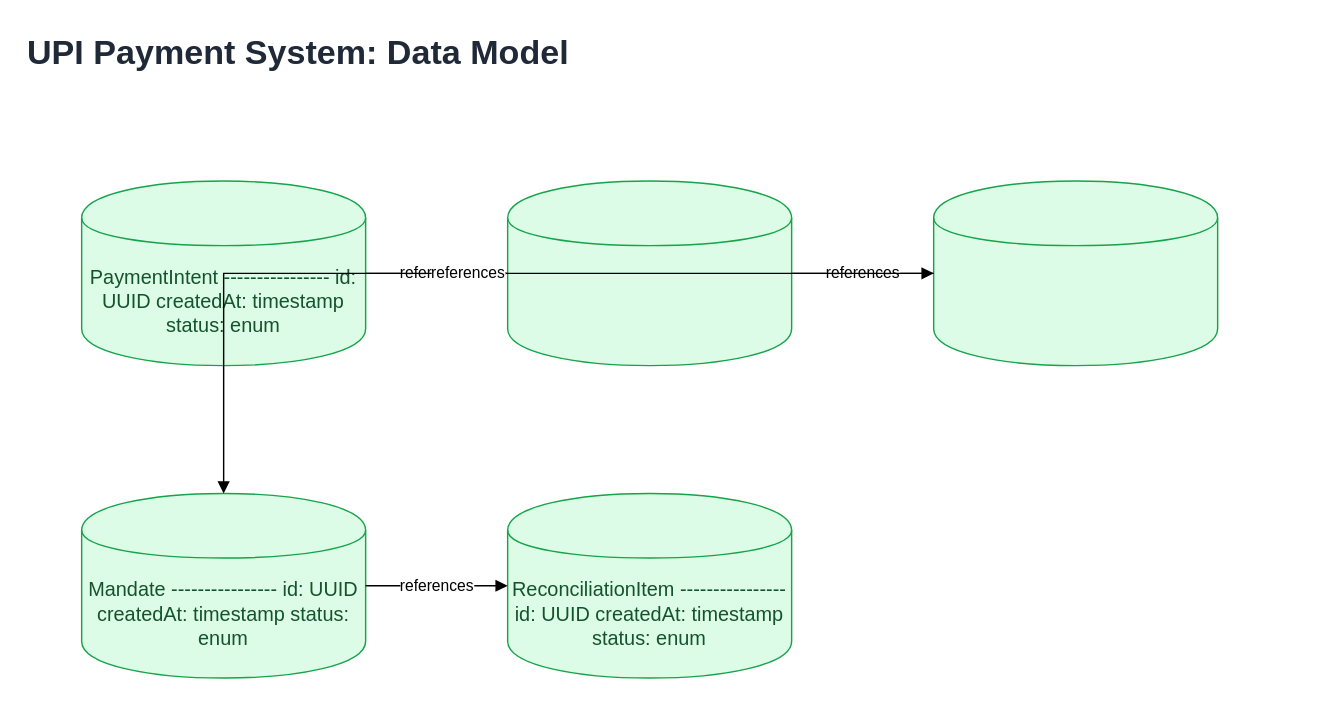
This 1326x703 diagram has some shape labels left out. Each missing label, with the box of its shape:
LedgerEntry ---------------- id: UUID createdAt: timestamp status: enum: (932, 180, 1218, 366)
Transaction ---------------- id: UUID createdAt: timestamp status: enum: (506, 180, 792, 366)
